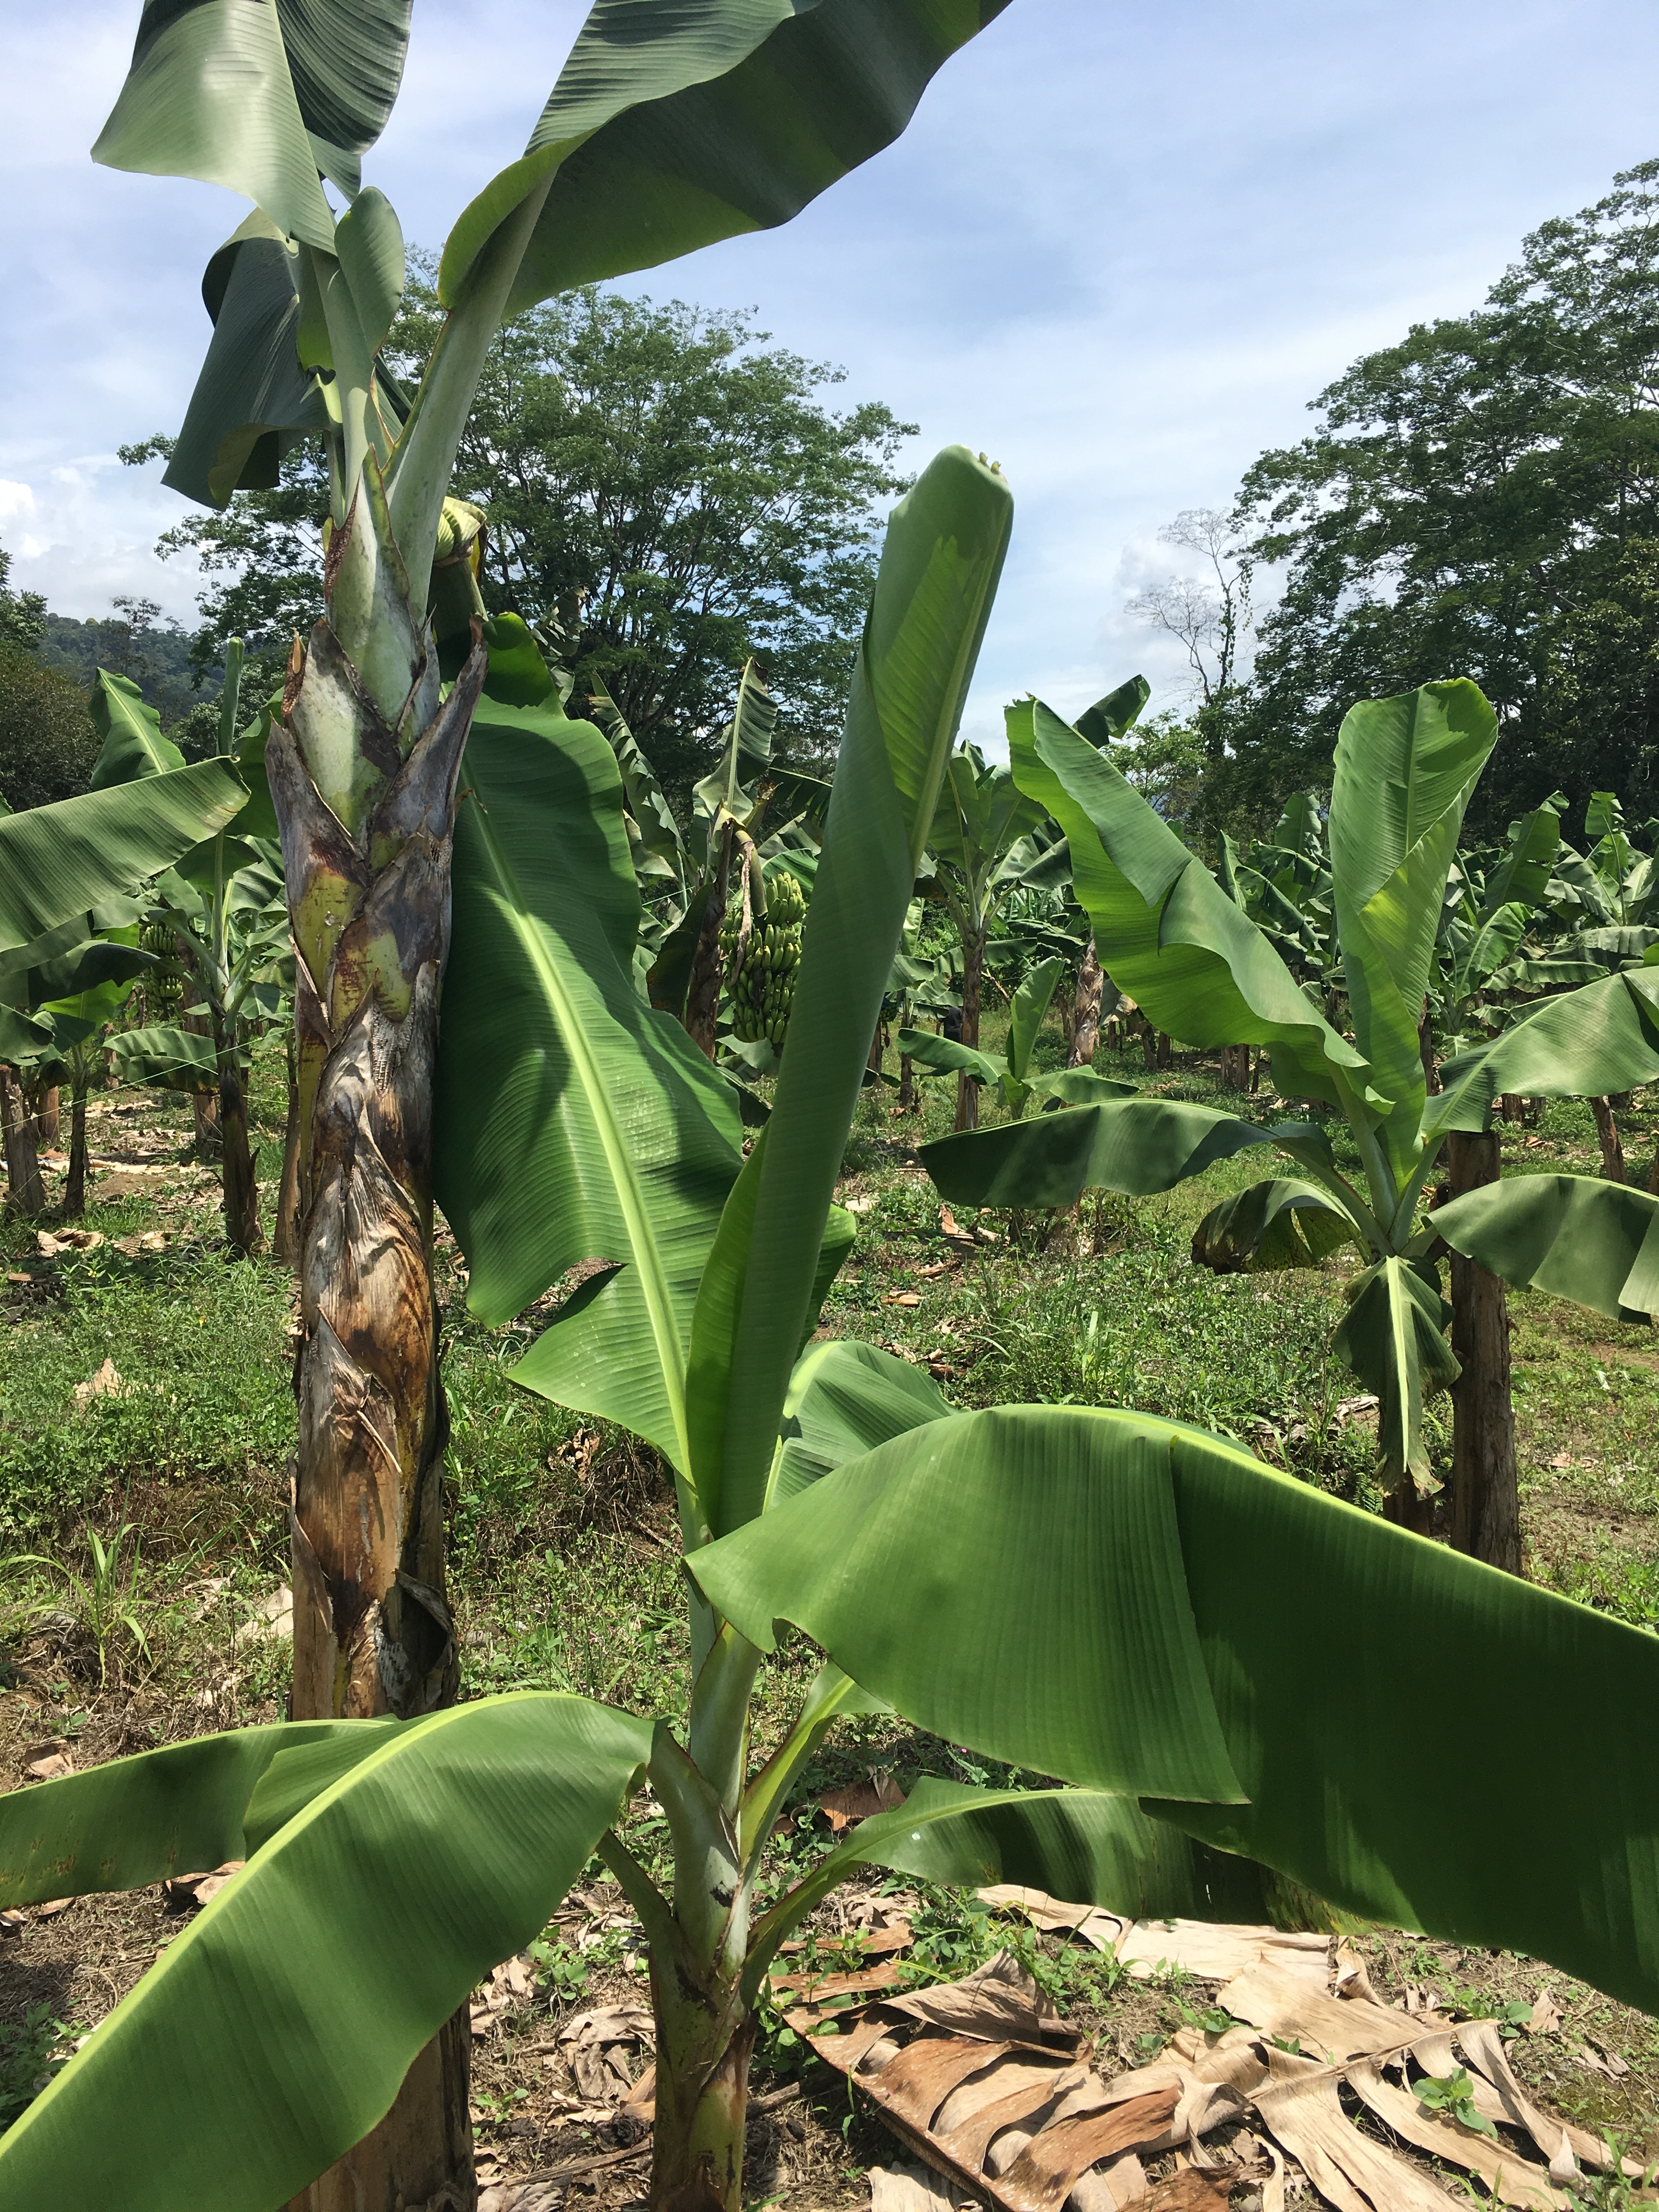candleleafs: (683, 444, 1012, 1467), (1330, 672, 1502, 1174)
